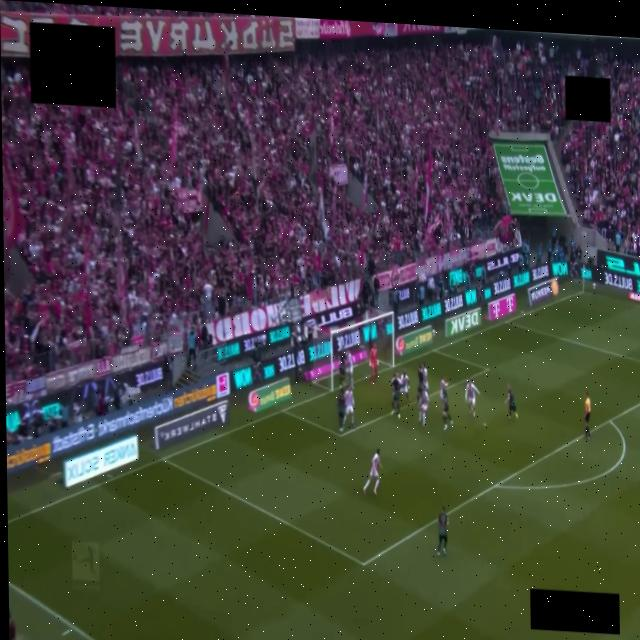player: (363, 449, 381, 494), (439, 378, 452, 430), (464, 379, 478, 417), (437, 506, 447, 556), (344, 387, 354, 428), (391, 373, 400, 417), (505, 385, 517, 418), (419, 388, 428, 426), (338, 388, 345, 433), (369, 342, 376, 386), (345, 351, 352, 389), (417, 365, 423, 402), (400, 373, 408, 399), (339, 352, 345, 386), (421, 363, 428, 392), (9, 613, 15, 639)
referee: (584, 392, 590, 440)
